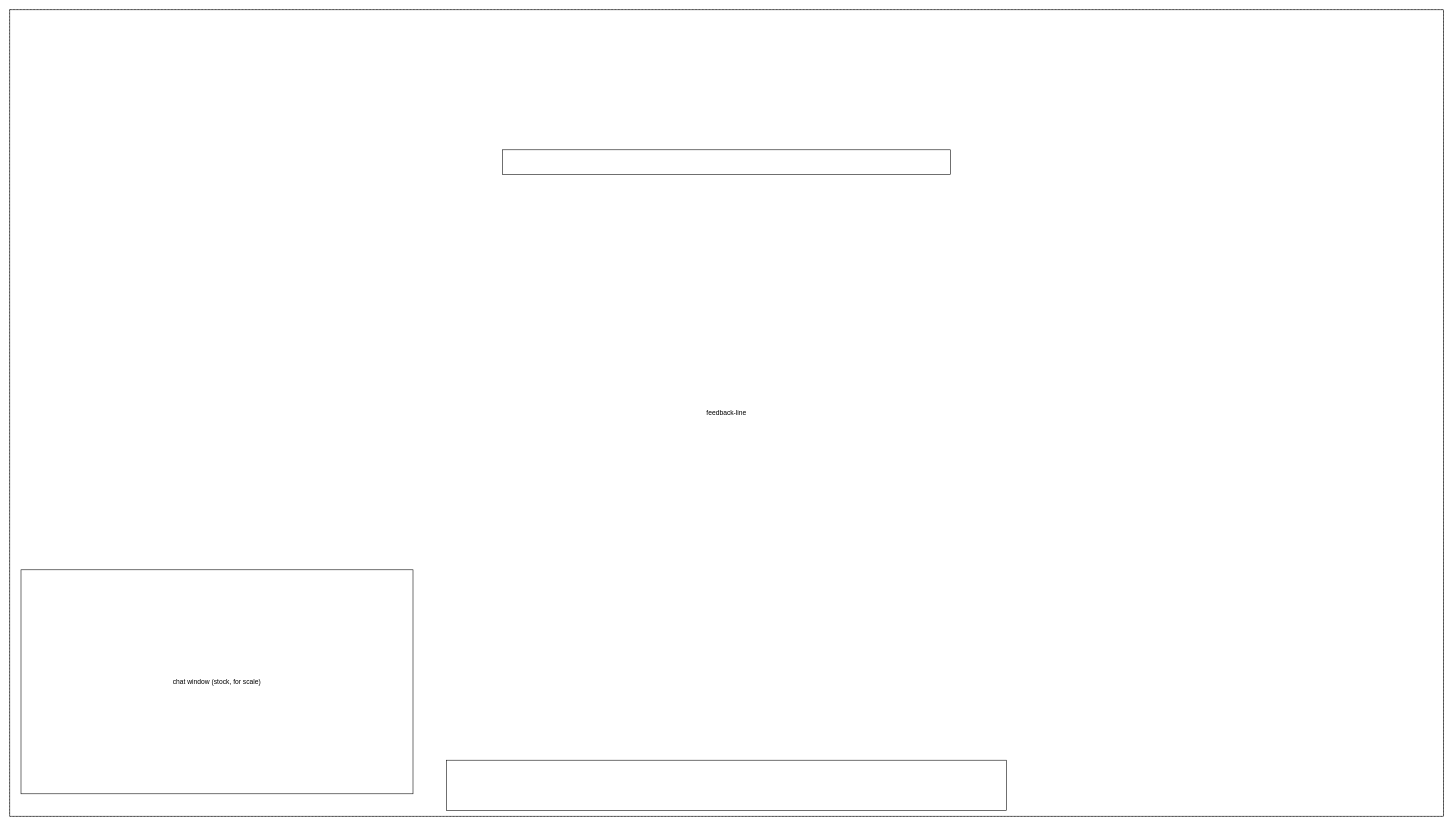
Image size: 1453x826. Some labels were removed from this diagram. The shapes that lost their labels are listed below. From the top down, each one's box as (x1, y1, x2, y2) in pixels, then its label:
(502, 149, 951, 174): Interact feedback line: "Nothing to loot."
(446, 760, 1007, 811): quickbar (stock, for scale)
